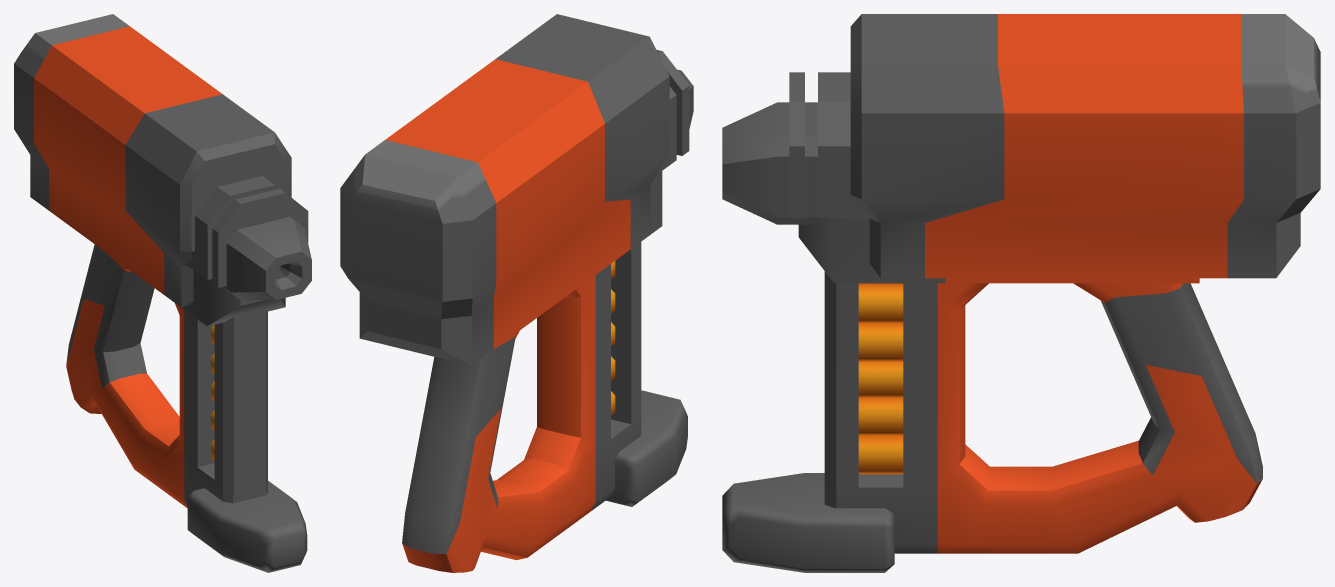
File: itemPistol.fbx
3 renders of one model, left to right at view 1: azimuth 30°, elevation 25°; view 2: azimuth 150°, elevation 25°; view 3: azimuth 270°, elevation 25°, orthographic. The views are drawn at different scales.
Visible parts, largest first — view 1: itemPistol; view 2: itemPistol; view 3: itemPistol.
Part boxes in pixels (<box>): itemPistol: <box>14,14,311,572</box>; itemPistol: <box>340,14,693,572</box>; itemPistol: <box>722,14,1320,572</box>.
Size of the model in its own units: 16.85 by 56.46 by 59.71.
